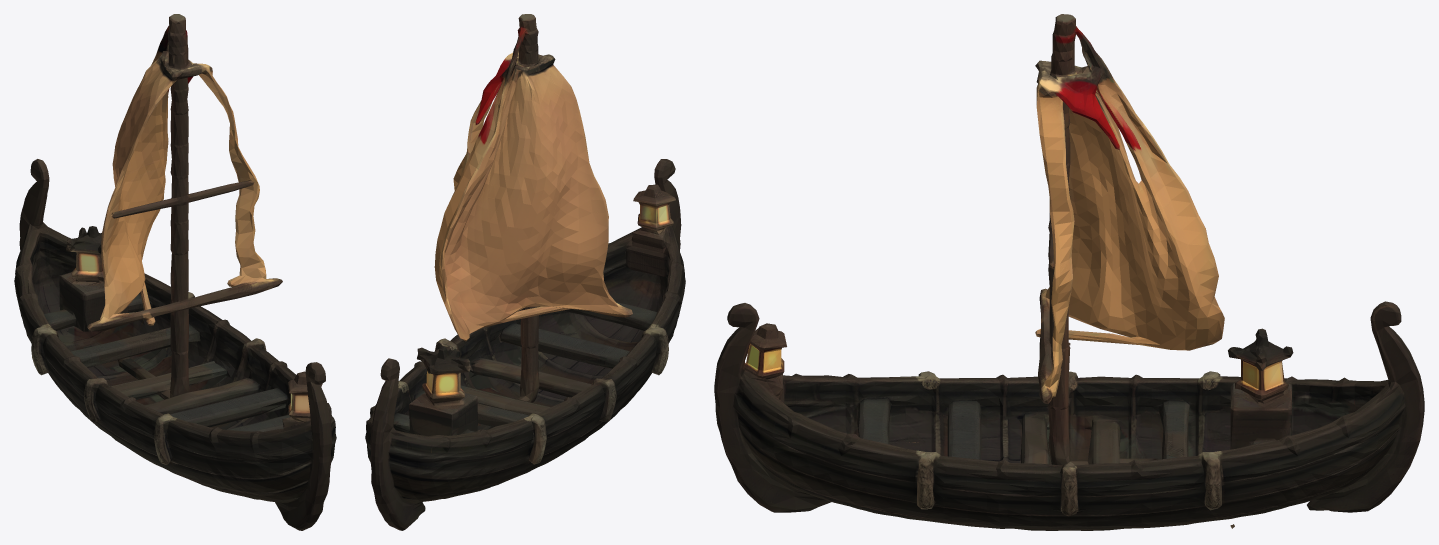
The model's file is skiff.glb.
3 renders of one model, left to right at view 1: azimuth 30°, elevation 25°; view 2: azimuth 150°, elevation 25°; view 3: azimuth 270°, elevation 25°, orthographic. The views are drawn at different scales.
Visible parts, largest first — view 1: body; view 2: body; view 3: body.
Boxes of the visible parts, box(x1,y1,x2,y2) form: body: box(14, 14, 336, 530); body: box(365, 14, 685, 530); body: box(714, 14, 1424, 530).
Size of the model in its own units: 0.7045 by 1.46 by 1.91.
Materials: 1 (1 with a texture image).
